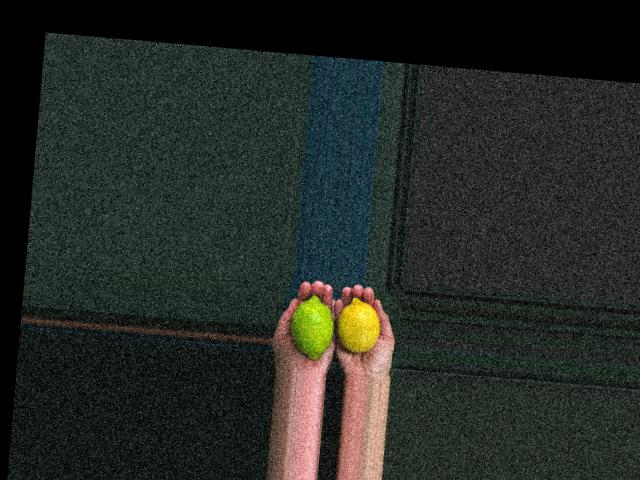lemon: (334, 296, 382, 356)
